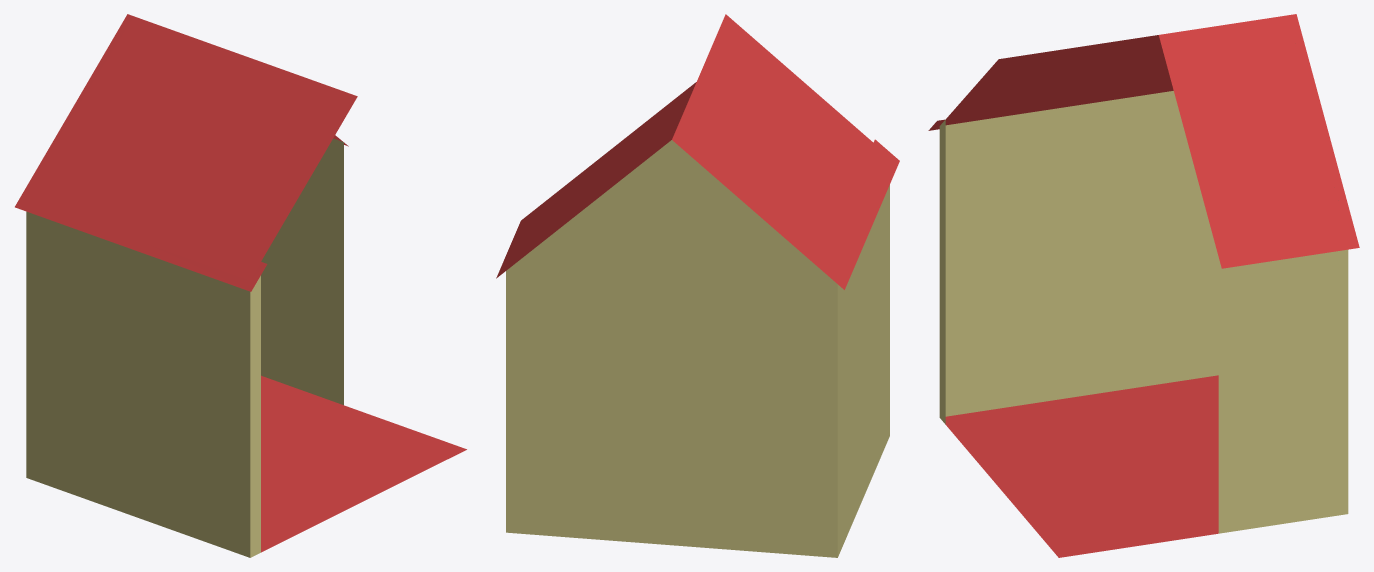
3 renders of one model, left to right at view 1: azimuth 30°, elevation 25°; view 2: azimuth 150°, elevation 25°; view 3: azimuth 270°, elevation 25°, orthographic. The views are drawn at different scales.
Bounding box in the file's own units: 12.65 × 12.2 × 13.35.
